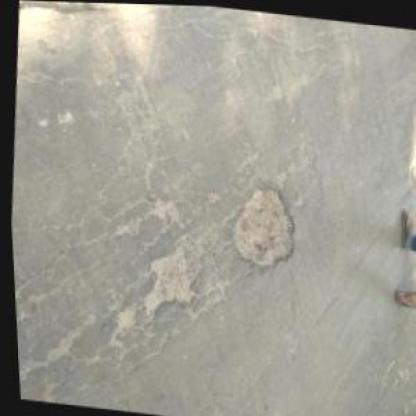pothole: (223, 183, 298, 275), (136, 243, 198, 326)
